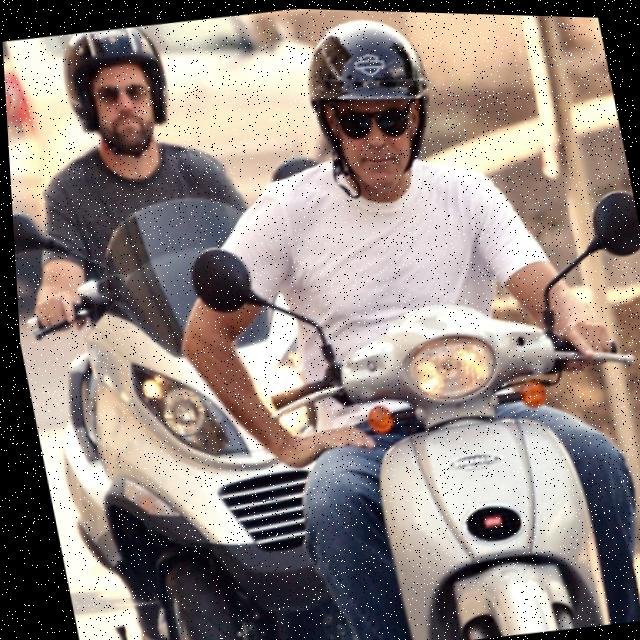helmet: (288, 7, 456, 203), (48, 20, 186, 170)
